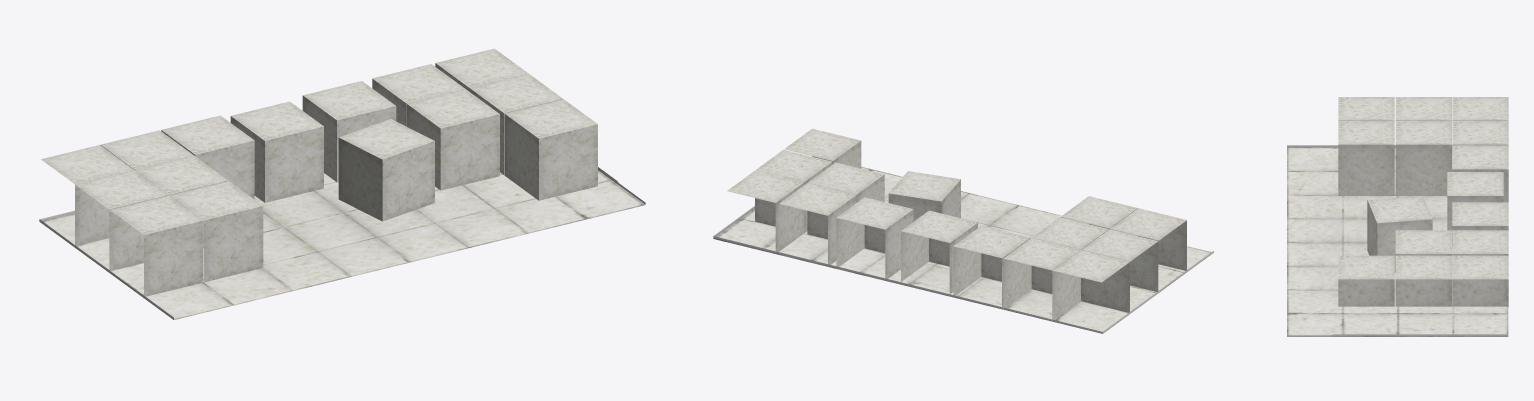
The model's file is SM_Tea01B.FBX.
3 views of the same model, side by side, from view 1: azimuth 30°, elevation 25°; view 2: azimuth 150°, elevation 25°; view 3: azimuth 270°, elevation 25° (orthographic). The views are drawn at different scales.
Visible parts, largest first — view 1: SM_Tea01B_LOD0; view 2: SM_Tea01B_LOD0; view 3: SM_Tea01B_LOD0.
Part boxes in pixels (x1,y1,x2,y2): SM_Tea01B_LOD0: [39, 48, 645, 319]; SM_Tea01B_LOD0: [713, 128, 1213, 333]; SM_Tea01B_LOD0: [1287, 97, 1508, 336].
Bounding box in the file's own units: 30.43 × 16.18 × 14.98.
